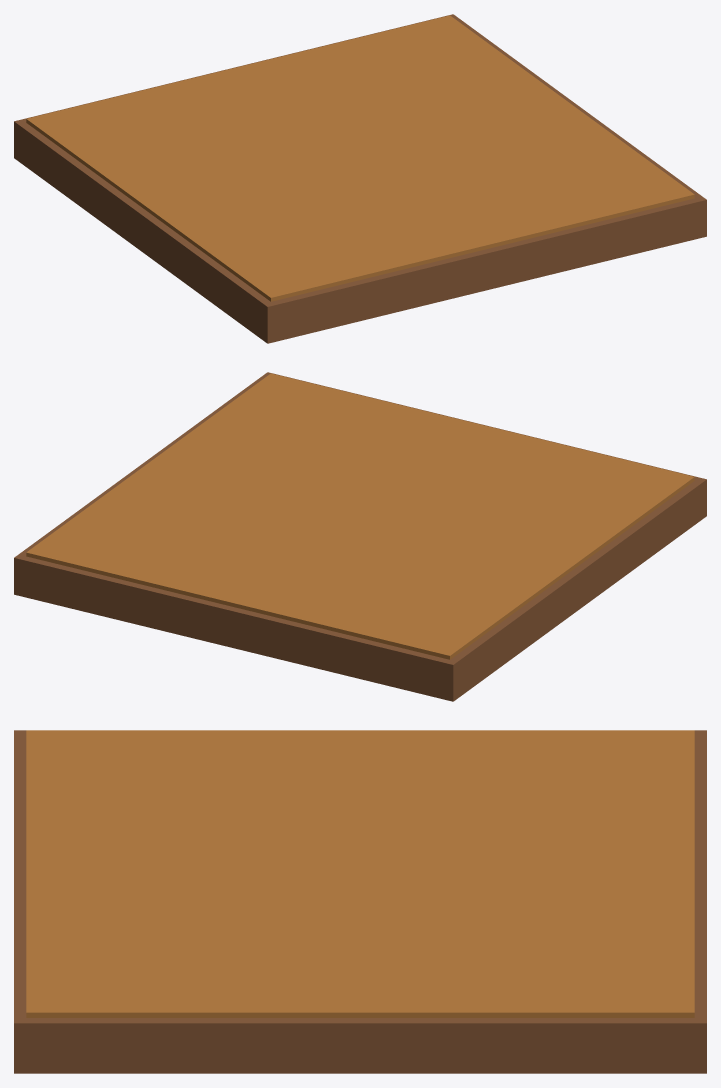
Rendered from OnOff.glb.
3 views of the same model, one above another, from view 1: azimuth 30°, elevation 25°; view 2: azimuth 150°, elevation 25°; view 3: azimuth 270°, elevation 25° (orthographic). The views are drawn at different scales.
Visible parts, largest first — view 1: Cube; view 2: Cube; view 3: Cube.
Part boxes in pixels (<box>): Cube: <box>14,14,706,343</box>; Cube: <box>14,372,706,701</box>; Cube: <box>14,730,706,1073</box>.
Bounding box in the file's own units: 1.33 × 0.1287 × 1.33.
